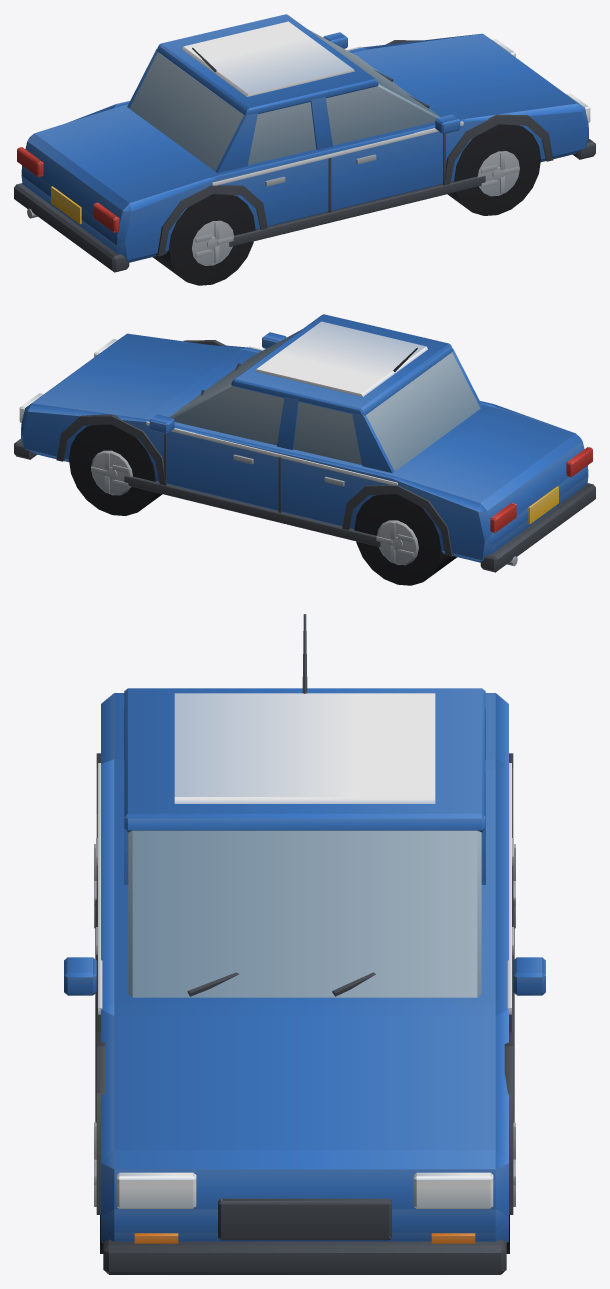
File: ck_car_sedan.fbx
3 views of the same model, one above another, from view 1: azimuth 30°, elevation 25°; view 2: azimuth 150°, elevation 25°; view 3: azimuth 270°, elevation 25° (orthographic). The views are drawn at different scales.
Parts seen in each view (by area): view 1: ck_car_sedan; view 2: ck_car_sedan; view 3: ck_car_sedan.
Part boxes in pixels (x1=…): ck_car_sedan: x1=14, y1=14, x2=595, y2=285; ck_car_sedan: x1=14, y1=314, x2=595, y2=585; ck_car_sedan: x1=64, y1=614, x2=545, y2=1274.
Bounding box in the file's own units: 1500 × 567 × 646.
